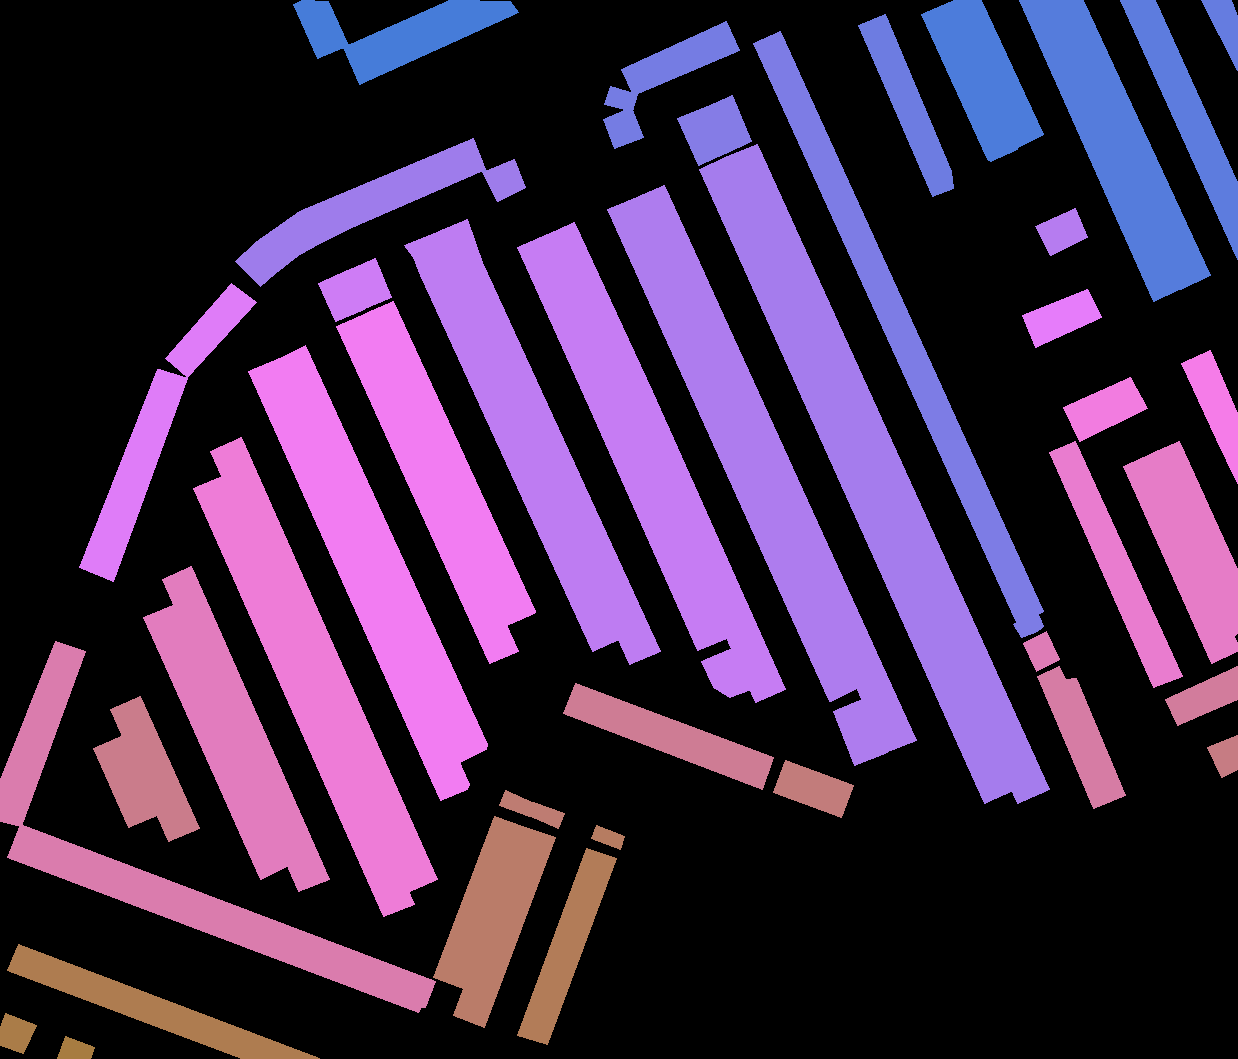parkingspot: (727, 144, 1049, 803), (699, 155, 1015, 803), (754, 32, 1043, 637), (636, 185, 916, 752), (607, 196, 859, 701), (545, 222, 785, 702), (210, 437, 437, 892), (248, 358, 469, 800), (193, 475, 414, 916), (404, 231, 621, 651), (517, 234, 729, 650), (277, 345, 487, 763), (454, 262, 660, 664), (7, 824, 435, 1012), (336, 313, 518, 663), (365, 302, 535, 626), (162, 566, 329, 891), (1019, 0, 1181, 302), (1049, 0, 1210, 289), (143, 604, 289, 879), (235, 138, 484, 286), (7, 944, 321, 1059), (1049, 441, 1182, 687), (1120, 0, 1237, 259), (1123, 453, 1238, 663), (79, 369, 187, 581), (563, 683, 773, 789), (453, 827, 555, 1027), (517, 848, 616, 1044), (858, 14, 953, 196), (1151, 441, 1238, 637), (433, 816, 525, 989), (0, 641, 85, 826), (921, 2, 1017, 161), (343, 0, 518, 84), (947, 0, 1043, 149), (110, 695, 199, 840), (1037, 666, 1124, 808), (621, 21, 739, 95), (165, 283, 256, 377), (1181, 350, 1238, 485), (92, 735, 159, 827), (1062, 377, 1147, 441), (773, 760, 853, 817), (1022, 289, 1101, 347), (1165, 666, 1238, 725), (833, 698, 887, 765), (293, 0, 348, 58), (677, 106, 727, 165), (436, 219, 483, 277), (705, 95, 751, 153), (1201, 0, 1238, 71), (701, 647, 751, 697), (1035, 208, 1087, 255), (345, 258, 391, 309), (318, 270, 364, 321), (482, 159, 525, 201), (603, 107, 643, 148), (1023, 631, 1059, 671), (0, 1013, 36, 1053), (1208, 735, 1238, 777), (528, 802, 564, 828), (499, 790, 534, 816), (57, 1036, 94, 1059), (604, 86, 637, 111), (591, 825, 624, 849)
